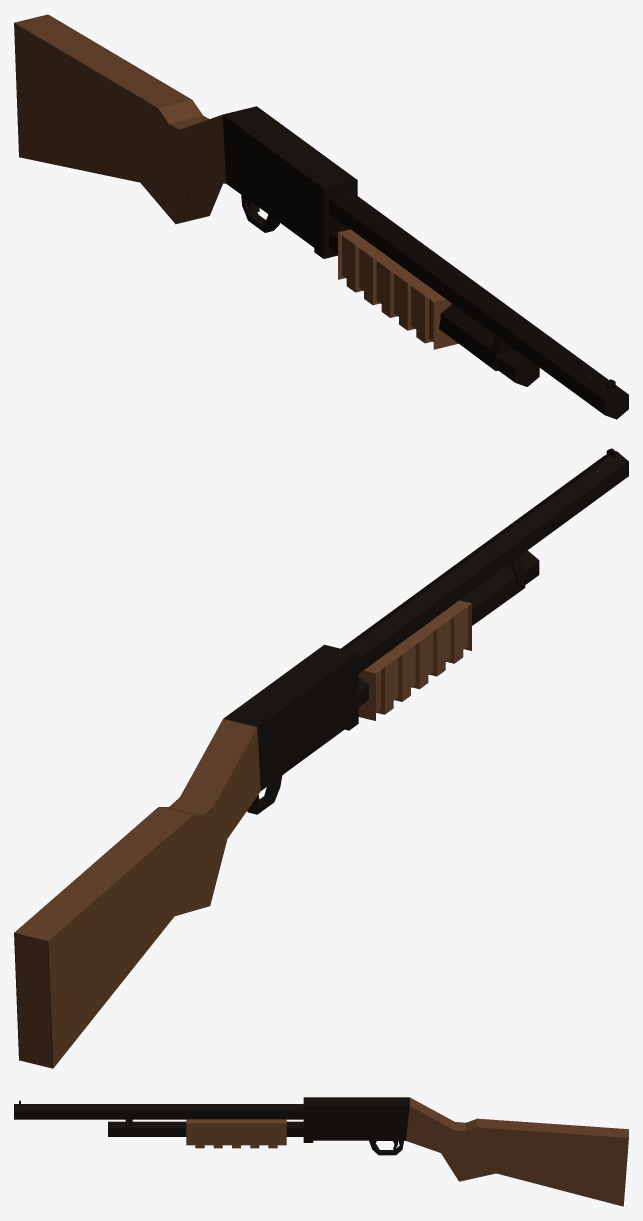
The model's file is Shotgun 1.fbx.
The picture shows the model from 3 angles, top to bottom: view 1: azimuth 30°, elevation 25°; view 2: azimuth 150°, elevation 25°; view 3: azimuth 270°, elevation 25°; orthographic projection. The views are drawn at different scales.
Parts seen in each view (by area): view 1: Shotgun, Corredera.001; view 2: Shotgun, Corredera.001; view 3: Shotgun, Corredera.001.
Boxes of the visible parts, x1,y1,x2,y2 form: Shotgun: (14, 14, 628, 419); Corredera.001: (338, 229, 458, 349); Shotgun: (14, 448, 628, 1068); Corredera.001: (358, 600, 471, 720); Shotgun: (14, 1097, 628, 1206); Corredera.001: (186, 1119, 286, 1148).
Size of the model in its own units: 16.57 by 79.77 by 437.
2 materials, 2 textured.
